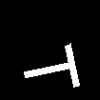half_double_crochet: (24, 44, 79, 86)
